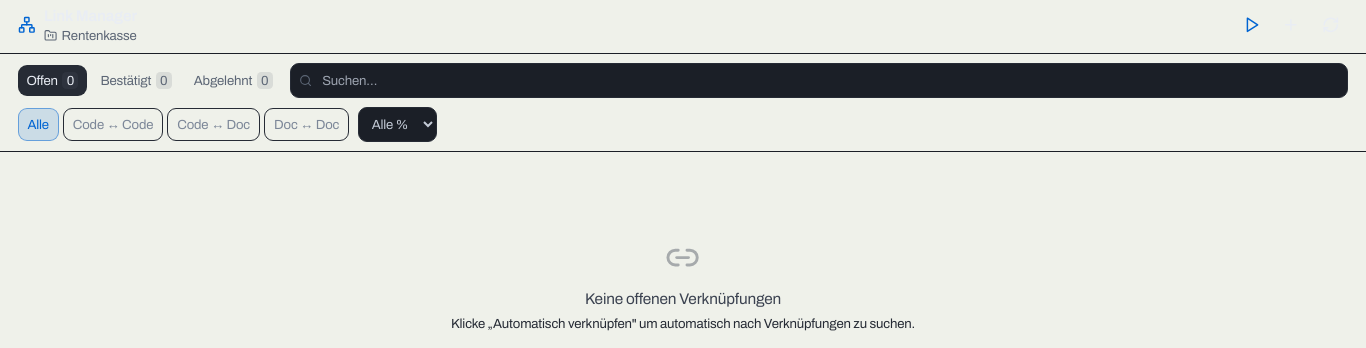
Test: LinkManagerView › Filterleiste › meldet eine leere Liste je Tab passend
The image size is (1366, 348).
Expected: the text "Keine offenen Verknüpfungen" is shown, [585, 288, 781, 310]
Expected: the text "Klicke" is shown, [451, 316, 915, 331]
Click the button "Abgelehnt 0" at [233, 81], box [185, 65, 282, 96]
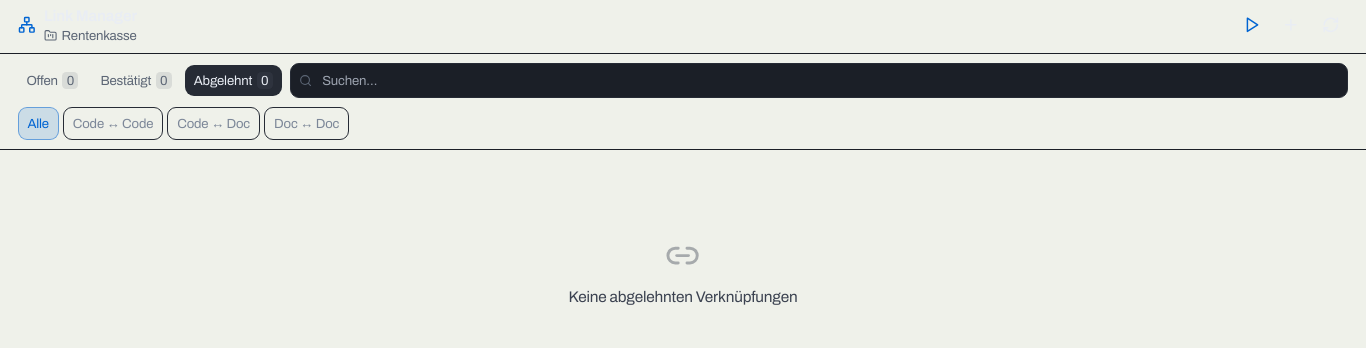
Now the text "Keine abgelehnten Verknüpfungen" is shown, box [568, 286, 797, 308]
